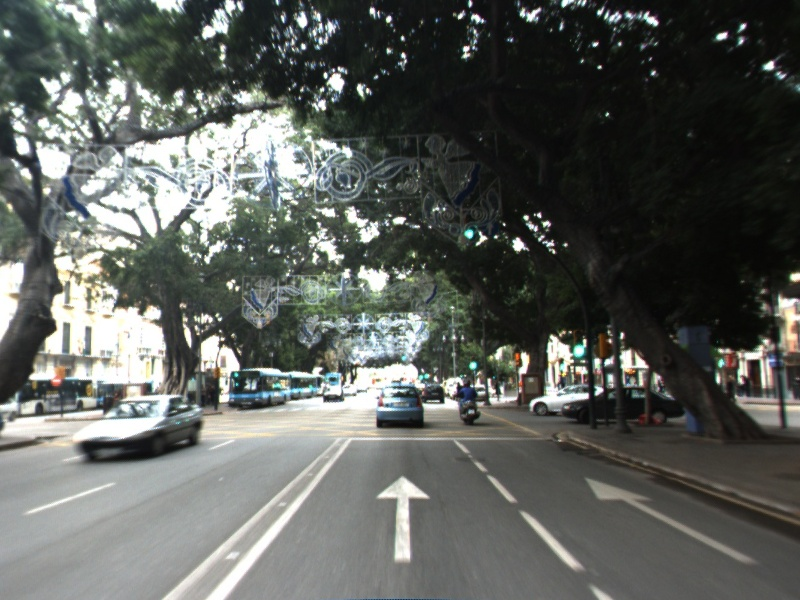STRAIGHT: (582, 475, 763, 568), (373, 472, 434, 565)
